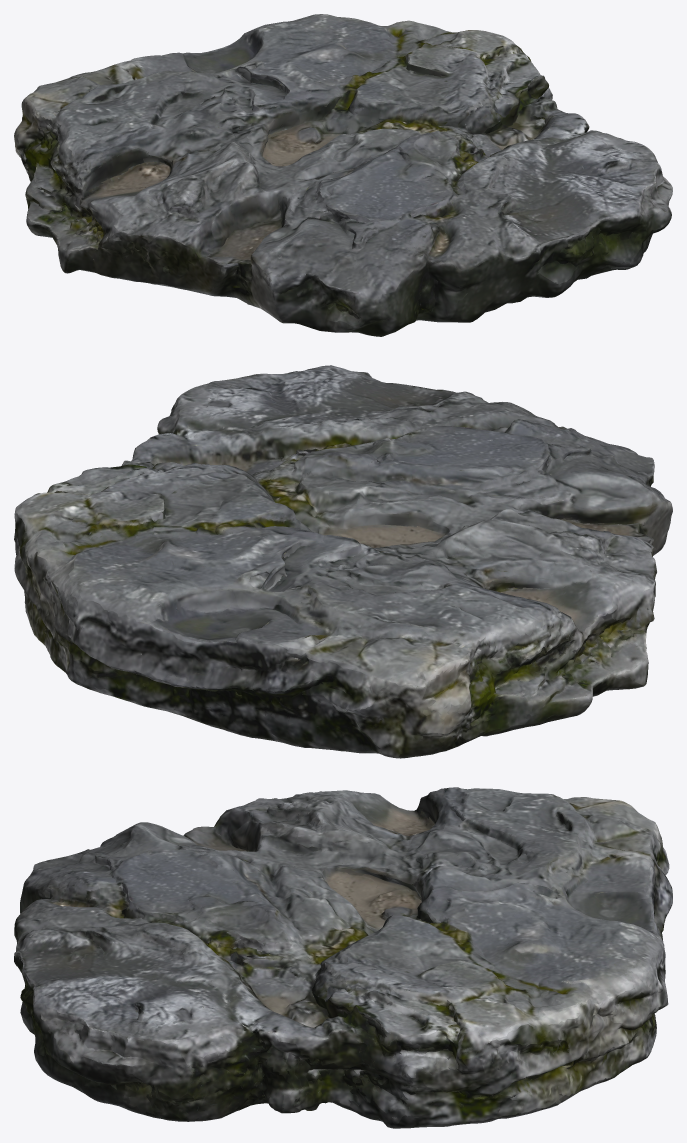
The model's file is macro-riverbed-v7.glb.
3 renders of one model, top to bottom at view 1: azimuth 30°, elevation 25°; view 2: azimuth 150°, elevation 25°; view 3: azimuth 270°, elevation 25°, orthographic. The views are drawn at different scales.
Parts seen in each view (by area): view 1: geometry_0; view 2: geometry_0; view 3: geometry_0.
Part boxes in pixels (left/top/right/bottom): geometry_0: left=14, top=14, right=672, bottom=336; geometry_0: left=14, top=365, right=672, bottom=758; geometry_0: left=14, top=787, right=672, bottom=1128.
Size of the model in its own units: 0.4495 by 0.0945 by 0.4472.
1 material, 1 textured.
